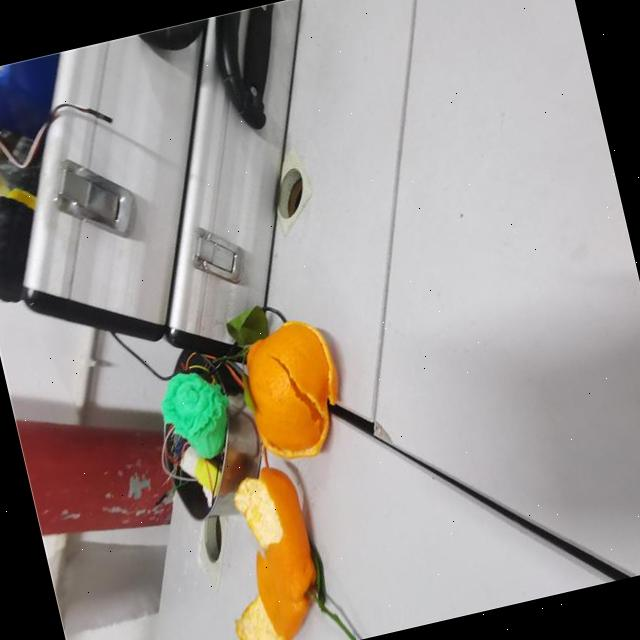orange-peel: (232, 311, 354, 467)
